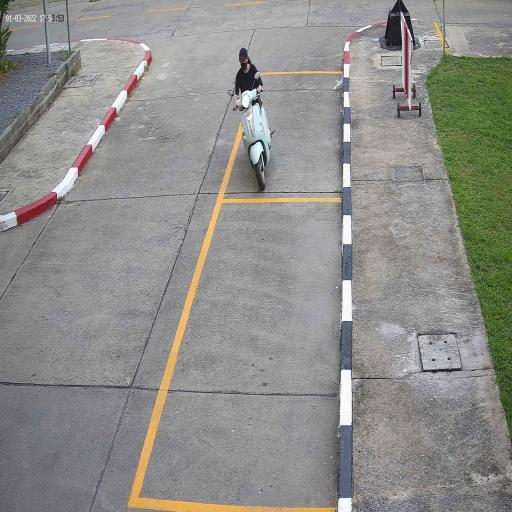motorcycle: (233, 89, 272, 193)
